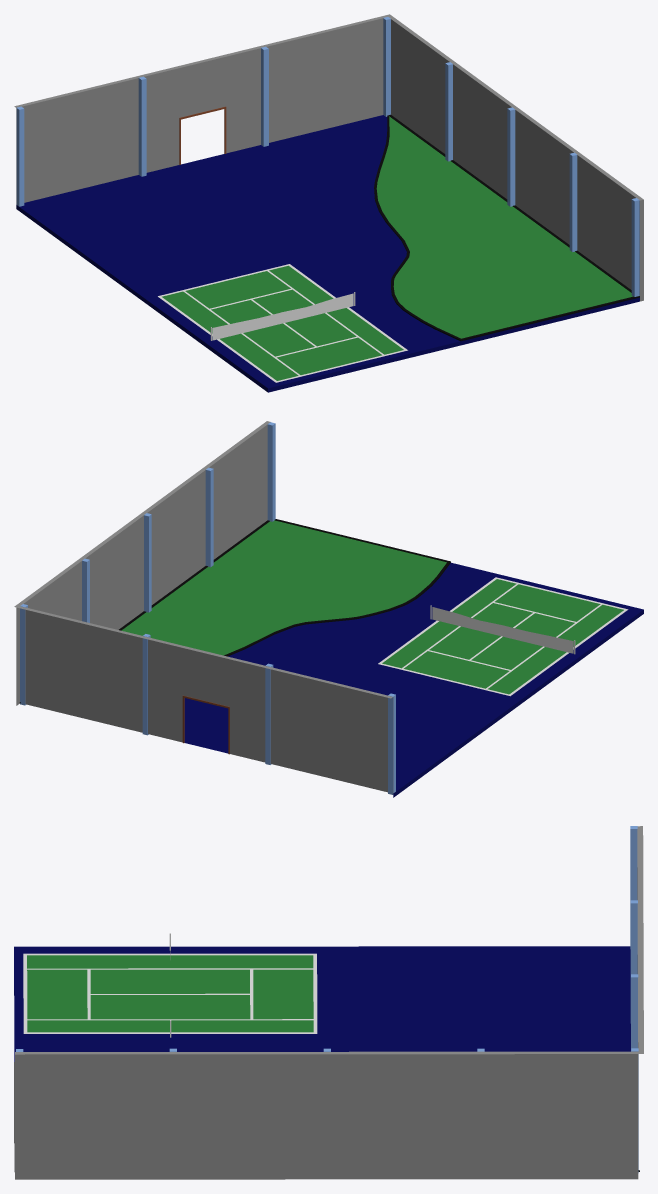
File: Room_Patio.fbx
3 renders of one model, top to bottom at view 1: azimuth 30°, elevation 25°; view 2: azimuth 150°, elevation 25°; view 3: azimuth 270°, elevation 25°, orthographic. The views are drawn at different scales.
Visible parts, largest first — view 1: Patio; view 2: Patio; view 3: Patio.
Part boxes in pixels (left/top/right/bottom): Patio: left=14, top=14, right=643, bottom=392; Patio: left=14, top=421, right=643, bottom=797; Patio: left=14, top=826, right=643, bottom=1179.
Size of the model in its own units: 9335 by 2394 by 10884.
